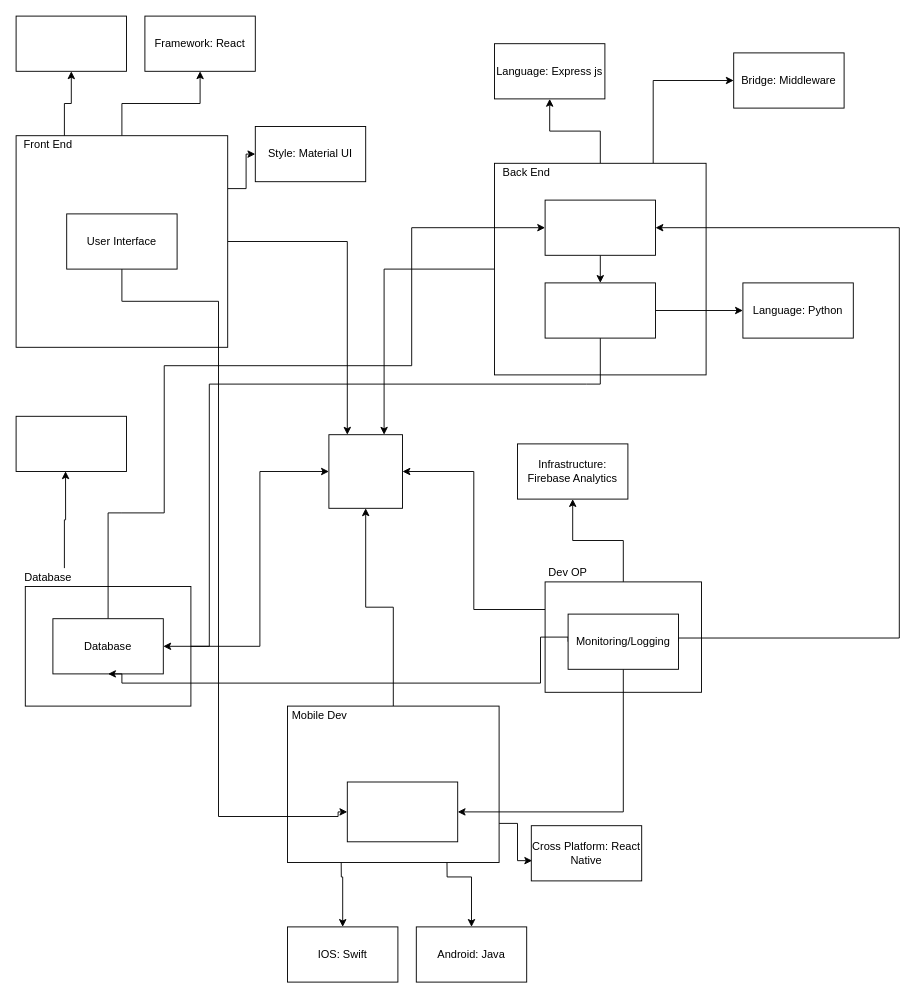
The diagram is 923 pixels wide and 998 high, and some of its shapes have lost their labels. The centre of each missing label's shape, as x and y in pixels:
Client: (x=402, y=811)
Infrastructure: Firebase Cloud FireStore: (x=70, y=443)
Language: React.js: (x=70, y=43)
Machine Learning: (x=600, y=310)
Pick-Up Sportz System: (x=365, y=471)
Serverless: (x=600, y=227)
